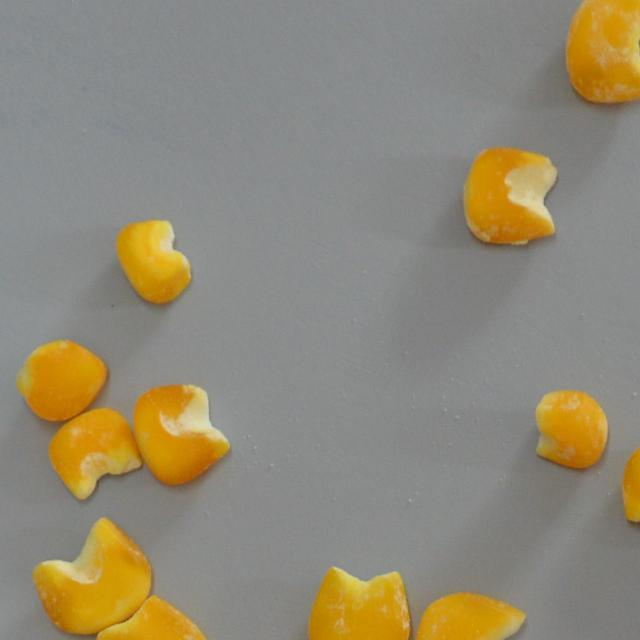no_canjicado: (132, 381, 230, 487), (47, 408, 140, 501), (14, 338, 108, 422), (116, 218, 192, 302), (622, 439, 640, 542)
pelicula: (28, 518, 158, 636), (460, 146, 557, 246), (564, 0, 640, 104), (308, 564, 410, 640), (532, 389, 608, 470), (95, 594, 212, 640), (414, 592, 526, 640)
